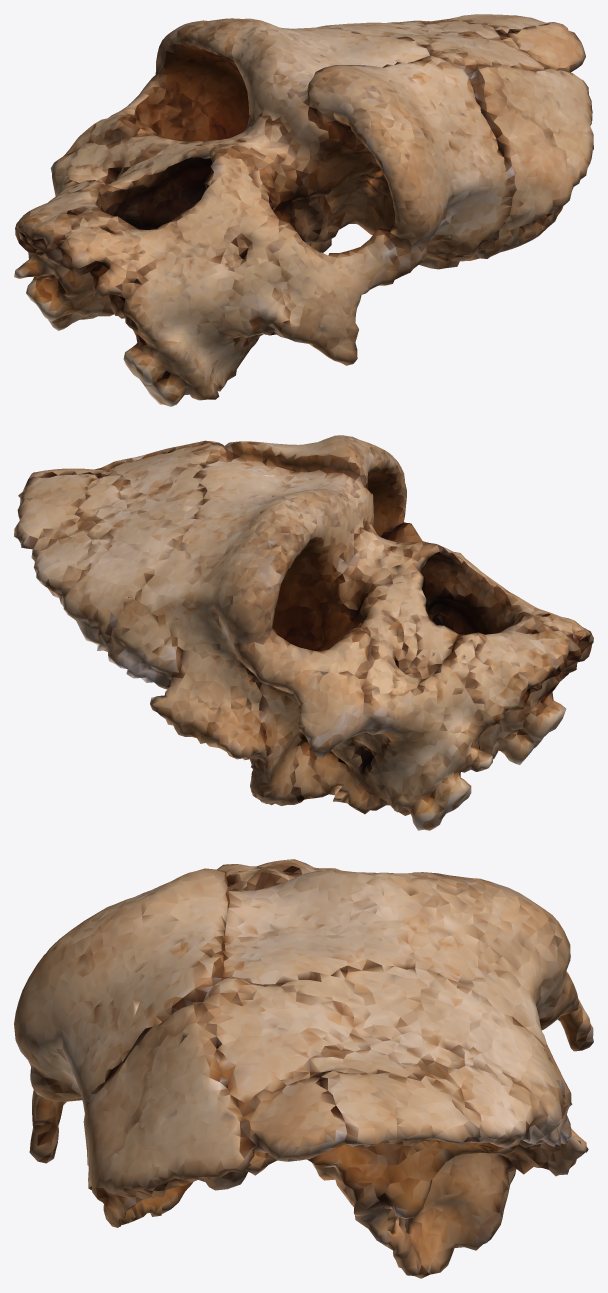
The model's file is tautavel-skull.glb.
3 renders of one model, top to bottom at view 1: azimuth 30°, elevation 25°; view 2: azimuth 150°, elevation 25°; view 3: azimuth 270°, elevation 25°, orthographic. The views are drawn at different scales.
Visible parts, largest first — view 1: Model; view 2: Model; view 3: Model.
Boxes of the visible parts, x1=… form: Model: x1=14, y1=14, x2=593, y2=406; Model: x1=14, y1=435, x2=593, y2=830; Model: x1=14, y1=859, x2=593, y2=1278.
Bounding box in the file's own units: 0.1869 × 0.0983 × 0.1271.
1 material, 1 textured.
